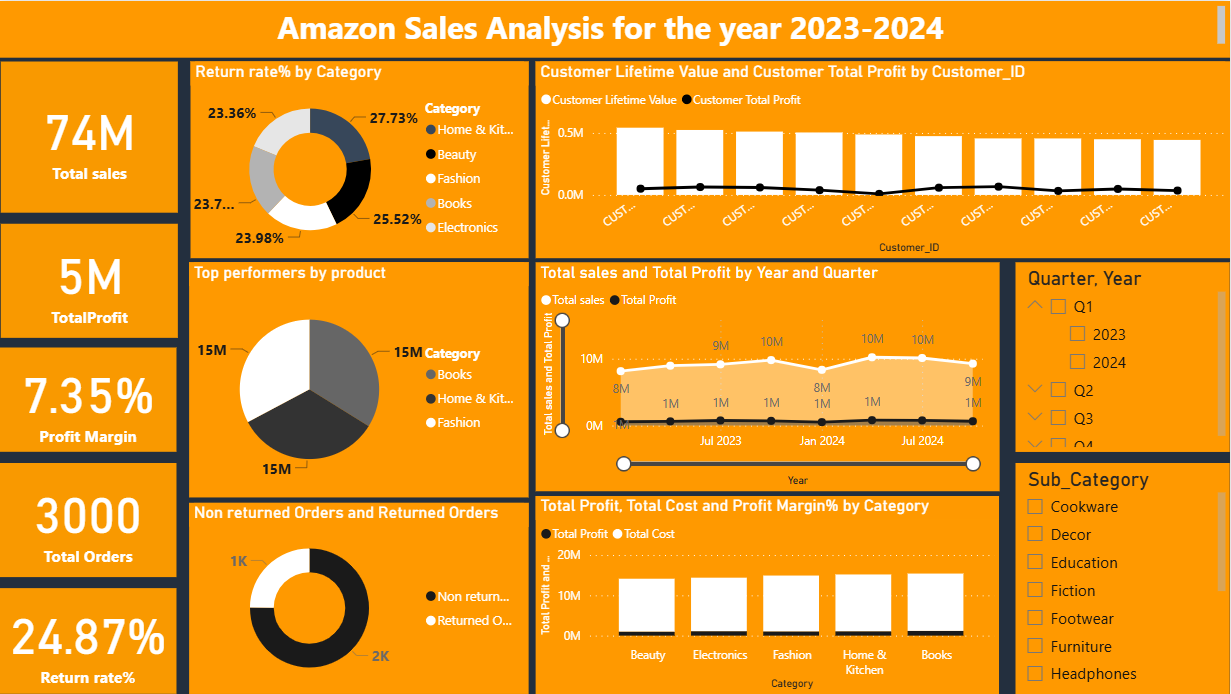

Layout of this report page (visuals, bound fields, positions):
{"tool":"powerbi","page":{"name":"Page 2","canvas":[1280,720],"ordinal":1},"visuals":[{"type":"card","fields":{"Values":["Sum(Ecommerce_Sales_Amazon_Flipkart_Style.Sales)"]},"box":[2.9,62.9,184.3,157.1],"z":0},{"type":"card","fields":{"Values":["Sum(Ecommerce_Sales_Amazon_Flipkart_Style.Profit)"]},"box":[2.9,231.4,184.3,118.6],"z":1000},{"type":"card","fields":{"Values":["Ecommerce_Sales_Amazon_Flipkart_Style.Profit Margin%"]},"box":[1.4,360,184.3,108.6],"z":2000},{"type":"card","fields":{"Values":["Ecommerce_Sales_Amazon_Flipkart_Style.Total Orders"]},"box":[1.4,480,184.3,118.6],"z":3000},{"type":"card","fields":{"Values":["Ecommerce_Sales_Amazon_Flipkart_Style.Return rate%"]},"box":[1.4,610,184.3,110],"z":4000},{"type":"textbox","box":[1.4,0,1278.6,58.6],"z":5000},{"type":"columnChart","fields":{"Y":["Ecommerce_Sales_Amazon_Flipkart_Style.Total Profit","Ecommerce_Sales_Amazon_Flipkart_Style.Total Cost"],"Category":["Ecommerce_Sales_Amazon_Flipkart_Style.Category"]},"box":[558.6,514.3,481.4,205.7],"z":6000},{"type":"areaChart","fields":{"Y":["Ecommerce_Sales_Amazon_Flipkart_Style.Total sales","Ecommerce_Sales_Amazon_Flipkart_Style.Total Profit"],"Category":["DateTable.Date.Variation.Date Hierarchy.Year","DateTable.Date.Variation.Date Hierarchy.Quarter"]},"box":[558.6,271.4,481.4,237.1],"z":7000},{"type":"donutChart","fields":{"Y":["Ecommerce_Sales_Amazon_Flipkart_Style.Non returned Orders","Ecommerce_Sales_Amazon_Flipkart_Style.Returned Orders"]},"box":[198.6,521.4,352.9,198.6],"z":8000},{"type":"donutChart","fields":{"Category":["Ecommerce_Sales_Amazon_Flipkart_Style.Category"],"Y":["Ecommerce_Sales_Amazon_Flipkart_Style.Return rate%"]},"box":[200,62.9,351.4,204.3],"z":9000},{"type":"pieChart","title":"Top performers by product","fields":{"Category":["Ecommerce_Sales_Amazon_Flipkart_Style.Category"],"Y":["Ecommerce_Sales_Amazon_Flipkart_Style.Total sales"]},"box":[198.6,271.4,352.9,244.3],"z":10000},{"type":"lineStackedColumnComboChart","fields":{"Category":["Ecommerce_Sales_Amazon_Flipkart_Style.Customer_ID"],"Y":["Ecommerce_Sales_Amazon_Flipkart_Style.Customer Lifetime Value"],"Y2":["Ecommerce_Sales_Amazon_Flipkart_Style.Customer Total Profit"]},"box":[558.6,62.9,721.4,204.3],"z":11000},{"type":"slicer","fields":{"Values":["DateTable.Quarter","DateTable.Year"]},"box":[1057.1,271.4,222.9,197.1],"z":11001},{"type":"slicer","fields":{"Values":["Ecommerce_Sales_Amazon_Flipkart_Style.Sub_Category"]},"box":[1057.1,480,222.9,240],"z":11002}]}

Visuals, with their boxes in screenshot pixels (x1, y1, x2, y2), scaled from the page's 1280x720 canvas onto the 1231x694 screenshot:
card - Sum(Ecommerce_Sales_Amazon_Flipkart_Style.Sales): [left=3, top=61, right=180, bottom=212]
card - Sum(Ecommerce_Sales_Amazon_Flipkart_Style.Profit): [left=3, top=223, right=180, bottom=337]
card - Ecommerce_Sales_Amazon_Flipkart_Style.Profit Margin%: [left=1, top=347, right=179, bottom=452]
card - Ecommerce_Sales_Amazon_Flipkart_Style.Total Orders: [left=1, top=463, right=179, bottom=577]
card - Ecommerce_Sales_Amazon_Flipkart_Style.Return rate%: [left=1, top=588, right=179, bottom=693]
textbox: [left=1, top=0, right=1230, bottom=56]
columnChart - Ecommerce_Sales_Amazon_Flipkart_Style.Total Profit x Ecommerce_Sales_Amazon_Flipkart_Style.Total Cost: [left=537, top=496, right=1000, bottom=693]
areaChart - Ecommerce_Sales_Amazon_Flipkart_Style.Total sales x Ecommerce_Sales_Amazon_Flipkart_Style.Total Profit: [left=537, top=262, right=1000, bottom=490]
donutChart - Ecommerce_Sales_Amazon_Flipkart_Style.Non returned Orders x Ecommerce_Sales_Amazon_Flipkart_Style.Returned Orders: [left=191, top=503, right=530, bottom=693]
donutChart - Ecommerce_Sales_Amazon_Flipkart_Style.Category x Ecommerce_Sales_Amazon_Flipkart_Style.Return rate%: [left=192, top=61, right=530, bottom=258]
"Top performers by product" pieChart: [left=191, top=262, right=530, bottom=497]
lineStackedColumnComboChart - Ecommerce_Sales_Amazon_Flipkart_Style.Customer_ID x Ecommerce_Sales_Amazon_Flipkart_Style.Customer Lifetime Value: [left=537, top=61, right=1230, bottom=258]
slicer - DateTable.Quarter x DateTable.Year: [left=1017, top=262, right=1230, bottom=452]
slicer - Ecommerce_Sales_Amazon_Flipkart_Style.Sub_Category: [left=1017, top=463, right=1230, bottom=693]
